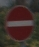No entry: (5, 5, 34, 42)
